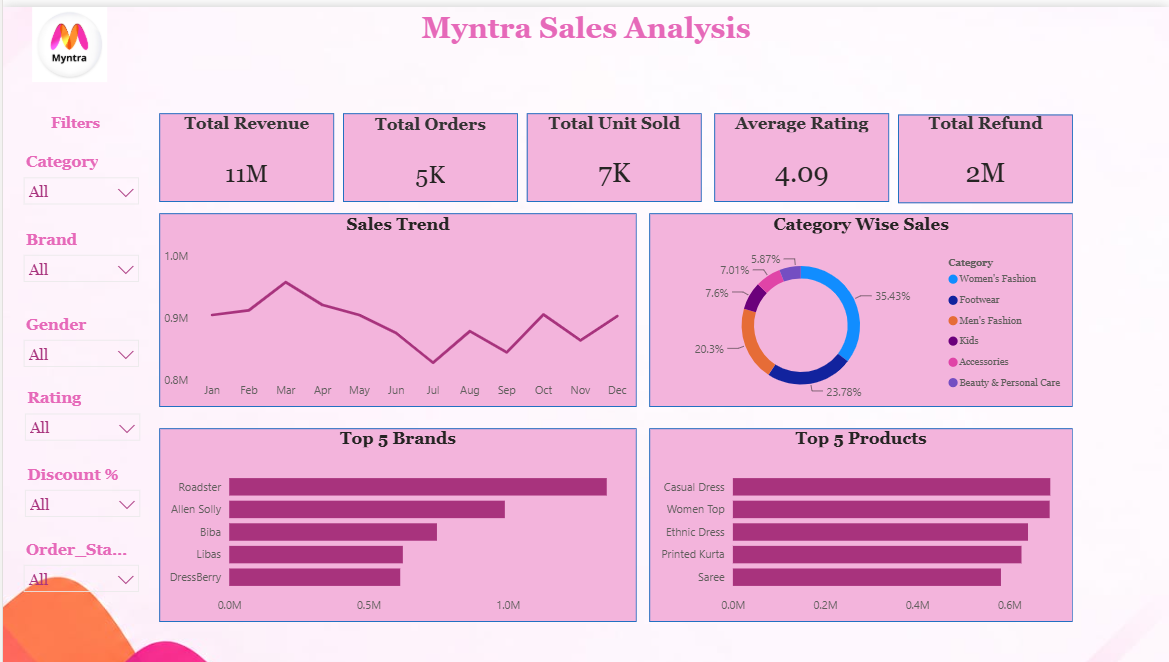

The dashboard page shown, as its layout file describes it:
{"tool":"powerbi","page":{"name":"Page 1","canvas":[1280,720],"ordinal":0},"visuals":[{"type":"textbox","box":[0,0,1280.3,82.3],"z":0},{"type":"image","box":[0,0,146.8,82.3],"z":1000},{"type":"shape","box":[171.5,116.6,192.1,97.4],"z":2000},{"type":"shape","box":[373.2,116.6,192.1,97.4],"z":3000},{"type":"shape","box":[575,116.6,192.1,97.4],"z":4000},{"type":"shape","box":[780.8,116.6,192.1,97.4],"z":5000},{"type":"shape","box":[982.5,118,192.1,97.4],"z":6000},{"type":"shape","box":[171.5,226.4,524.2,212.7],"z":7000},{"type":"shape","box":[709.4,226.4,465.2,212.7],"z":8000},{"type":"shape","box":[171.5,462.4,524.2,212.7],"z":9000},{"type":"shape","box":[709.4,462.4,465.2,212.7],"z":10000},{"type":"cardVisual","title":"Total Revenue","fields":{"Data":["Myntra_Analysis.Total Revenue"]},"box":[171.5,116.6,192.1,97.4],"z":11000},{"type":"cardVisual","title":"Total Orders","fields":{"Data":["Myntra_Analysis.Total Orders"]},"box":[373.2,118,192.1,97.4],"z":12000},{"type":"cardVisual","title":"Total Unit Sold","fields":{"Data":["Myntra_Analysis.Total Unit Sold"]},"box":[575,116.6,192.1,97.4],"z":13000},{"type":"cardVisual","title":"Average Rating","fields":{"Data":["Myntra_Analysis.Average Rating"]},"box":[780.8,116.6,192.1,97.4],"z":14000},{"type":"cardVisual","title":"Total Refund","fields":{"Data":["Myntra_Analysis.Total Refund"]},"box":[982.5,116.6,192.1,97.4],"z":15000},{"type":"lineChart","title":"Sales Trend","fields":{"Category":["Myntra_Analysis.Month"],"Y":["Myntra_Analysis.Total Revenue"]},"box":[171.5,227.8,524.2,211.3],"z":16000},{"type":"donutChart","title":"Category Wise Sales","fields":{"Category":["Myntra_Analysis.Category"],"Y":["Myntra_Analysis.Total Revenue"]},"box":[709.4,227.8,465.2,211.3],"z":17000},{"type":"barChart","title":"Top 5 Brands","fields":{"Category":["Myntra_Analysis.Brand"],"Y":["Myntra_Analysis.Total Revenue"]},"box":[171.5,462.4,524.2,212.7],"z":18000},{"type":"barChart","title":"Top 5 Products","fields":{"Category":["Myntra_Analysis.Product"],"Y":["Myntra_Analysis.Total Revenue"]},"box":[709.4,462.4,465.2,212.7],"z":19000},{"type":"textbox","box":[0,113.9,159.2,52.1],"z":20000},{"type":"slicer","fields":{"Values":["Myntra_Analysis.Category"]},"box":[12.3,155.1,146.8,71.4],"z":21000},{"type":"slicer","fields":{"Values":["Myntra_Analysis.Brand"]},"box":[12.3,240.1,146.8,71.4],"z":22000},{"type":"slicer","fields":{"Values":["Myntra_Analysis.Gender"]},"box":[12.3,333.4,146.8,71.4],"z":22001},{"type":"slicer","fields":{"Values":["Myntra_Analysis.Rating"]},"box":[13.7,414.4,146.8,71.4],"z":22002},{"type":"slicer","fields":{"Values":["Myntra_Analysis.Discount_Percent"]},"box":[13.7,498.1,146.8,71.4],"z":22003},{"type":"slicer","fields":{"Values":["Myntra_Analysis.Order_Status"]},"box":[12.3,580.4,146.8,71.4],"z":22005}]}

Visuals, with their boxes in screenshot pixels (x1, y1, x2, y2), scaled from the page's 1280x720 canvas onto the 1169x662 screenshot:
textbox: left=0, top=0, right=1168, bottom=76
image: left=0, top=0, right=134, bottom=76
shape: left=157, top=107, right=332, bottom=197
shape: left=341, top=107, right=516, bottom=197
shape: left=525, top=107, right=701, bottom=197
shape: left=713, top=107, right=889, bottom=197
shape: left=897, top=108, right=1073, bottom=198
shape: left=157, top=208, right=635, bottom=404
shape: left=648, top=208, right=1073, bottom=404
shape: left=157, top=425, right=635, bottom=621
shape: left=648, top=425, right=1073, bottom=621
"Total Revenue" cardVisual: left=157, top=107, right=332, bottom=197
"Total Orders" cardVisual: left=341, top=108, right=516, bottom=198
"Total Unit Sold" cardVisual: left=525, top=107, right=701, bottom=197
"Average Rating" cardVisual: left=713, top=107, right=889, bottom=197
"Total Refund" cardVisual: left=897, top=107, right=1073, bottom=197
"Sales Trend" lineChart: left=157, top=209, right=635, bottom=404
"Category Wise Sales" donutChart: left=648, top=209, right=1073, bottom=404
"Top 5 Brands" barChart: left=157, top=425, right=635, bottom=621
"Top 5 Products" barChart: left=648, top=425, right=1073, bottom=621
textbox: left=0, top=105, right=145, bottom=153
slicer - Myntra_Analysis.Category: left=11, top=143, right=145, bottom=208
slicer - Myntra_Analysis.Brand: left=11, top=221, right=145, bottom=286
slicer - Myntra_Analysis.Gender: left=11, top=307, right=145, bottom=372
slicer - Myntra_Analysis.Rating: left=13, top=381, right=147, bottom=447
slicer - Myntra_Analysis.Discount_Percent: left=13, top=458, right=147, bottom=524
slicer - Myntra_Analysis.Order_Status: left=11, top=534, right=145, bottom=599
